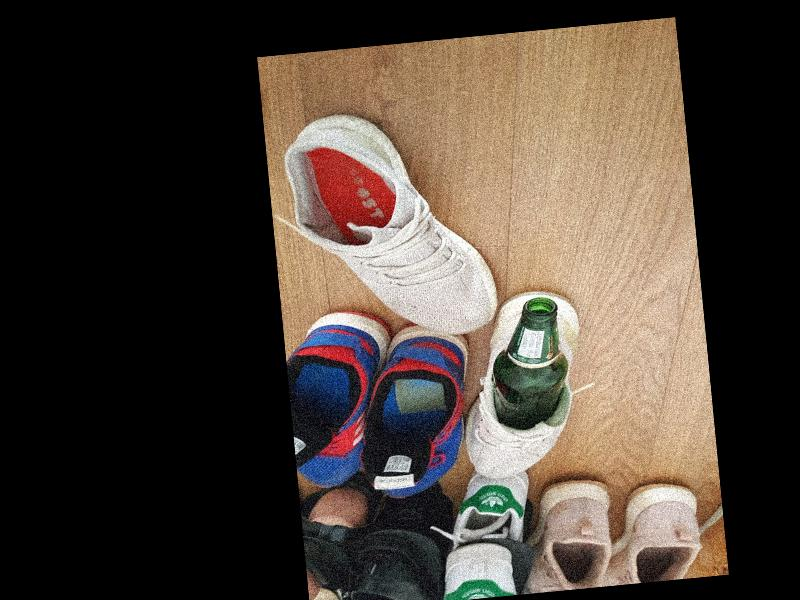Beer: (483, 294, 573, 431)
